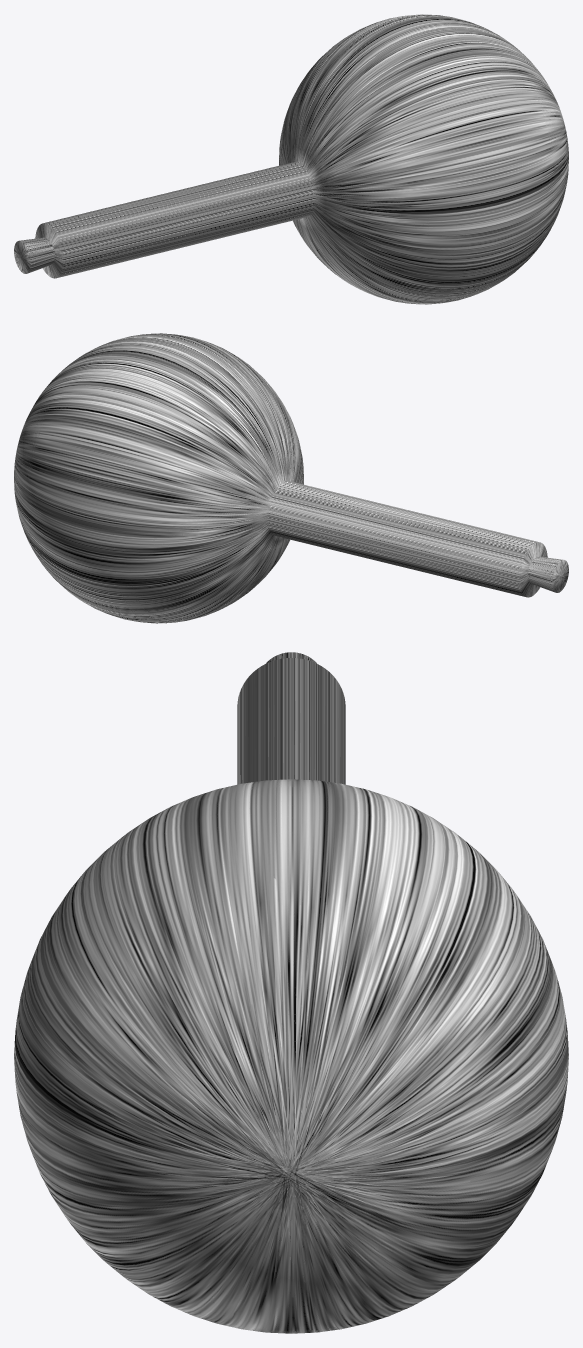
File: potion.fbx
The picture shows the model from 3 angles, top to bottom: view 1: azimuth 30°, elevation 25°; view 2: azimuth 150°, elevation 25°; view 3: azimuth 270°, elevation 25°; orthographic projection. The views are drawn at different scales.
Visible parts, largest first — view 1: Potion; view 2: Potion; view 3: Potion.
Part boxes in pixels (box(x1,y1,x2,y2)): Potion: box(14, 14, 568, 304); Potion: box(14, 333, 568, 623); Potion: box(14, 652, 568, 1333).
Size of the model in its own units: 21 by 10 by 10.
